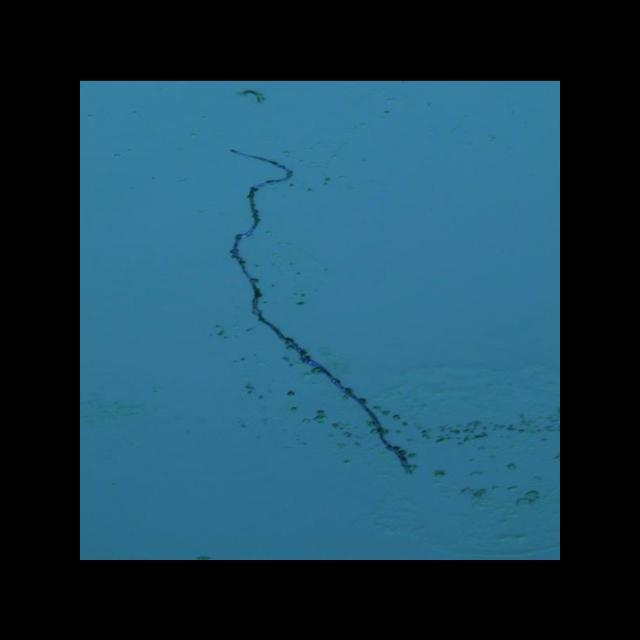Fibre: (224, 148, 421, 474)
